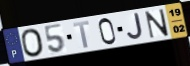0: (98, 17, 118, 46)
5: (43, 22, 68, 55)
J: (126, 12, 145, 42)
N: (144, 8, 170, 40)
O: (20, 27, 46, 58)
T: (72, 19, 91, 49)
